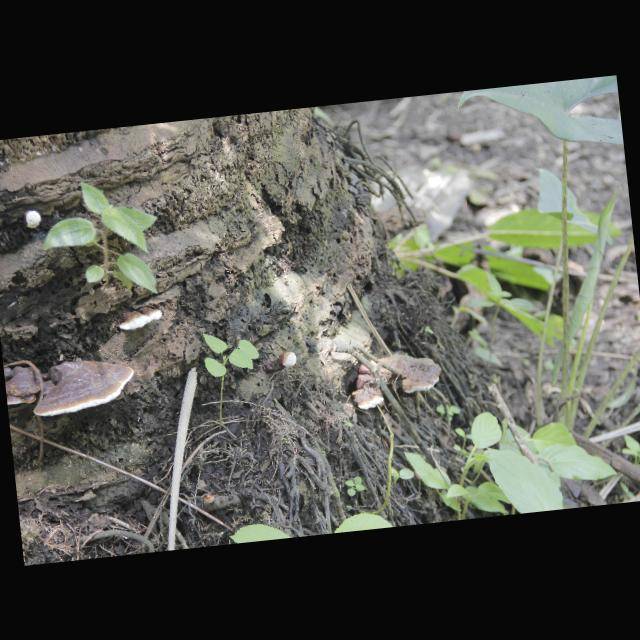ganoderma: (29, 355, 139, 419), (382, 350, 445, 397), (349, 363, 386, 412), (5, 366, 44, 407), (118, 307, 164, 332)
primordium: (23, 210, 43, 230), (279, 351, 298, 370)
